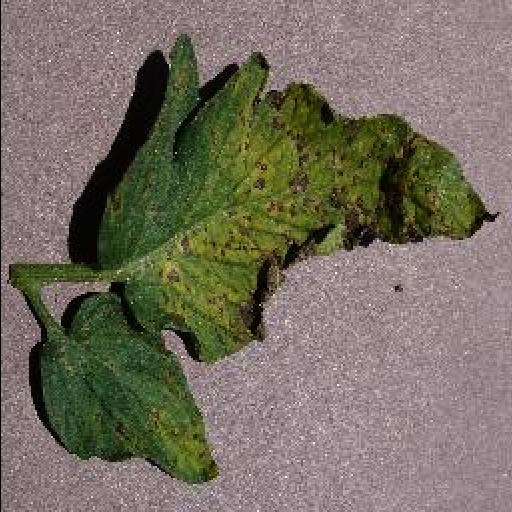disease_tomato: (94, 30, 500, 363)
